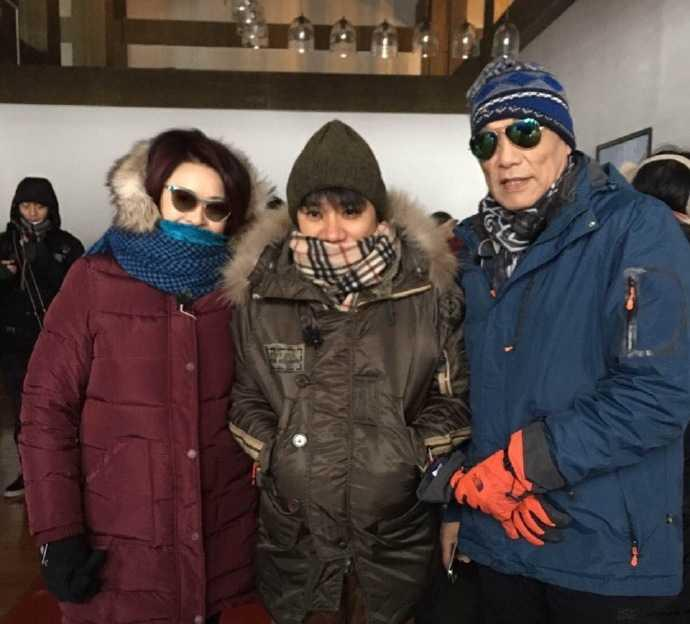NONE: (474, 111, 566, 204), (21, 200, 50, 230)
WRONG: (298, 195, 376, 268), (163, 182, 234, 254)
